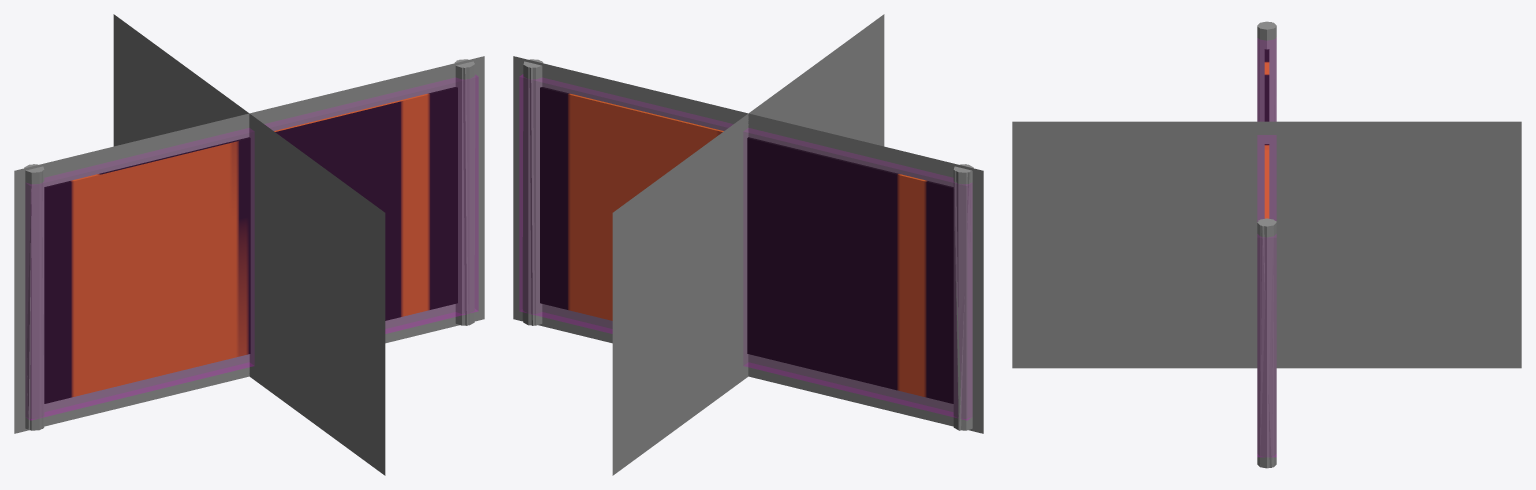
File: ribbon_caution_2m.dae
The picture shows the model from 3 angles, left to right: view 1: azimuth 30°, elevation 25°; view 2: azimuth 150°, elevation 25°; view 3: azimuth 270°, elevation 25°; orthographic projection. The views are drawn at different scales.
Parts seen in each view (by area): view 1: ribbon_caution_2m_a800, Colmesh_panel-1, ribbon_caution_2m_a50, ribbon_caution_2m_a200; view 2: ribbon_caution_2m_a800, Colmesh_panel-1, ribbon_caution_2m_a50, ribbon_caution_2m_a200; view 3: ribbon_caution_2m_a50, ribbon_caution_2m_a800, Colmesh_panel-1, ribbon_caution_2m_a200.
Part boxes in pixels (x1,y1,x2,y2): ribbon_caution_2m_a800: (24,59,474,430); Colmesh_panel-1: (26,75,478,420); ribbon_caution_2m_a50: (14,14,484,475); ribbon_caution_2m_a200: (27,60,475,430); ribbon_caution_2m_a800: (523,59,973,430); Colmesh_panel-1: (519,74,971,420); ribbon_caution_2m_a50: (513,14,983,475); ribbon_caution_2m_a200: (522,60,970,430); ribbon_caution_2m_a50: (1012,121,1521,368); ribbon_caution_2m_a800: (1257,21,1276,468); Colmesh_panel-1: (1257,39,1276,456); ribbon_caution_2m_a200: (1257,22,1276,467).
Size of the model in its own units: 2.1 by 2.1 by 1.12.
Materials: 3 (1 with a texture image).
